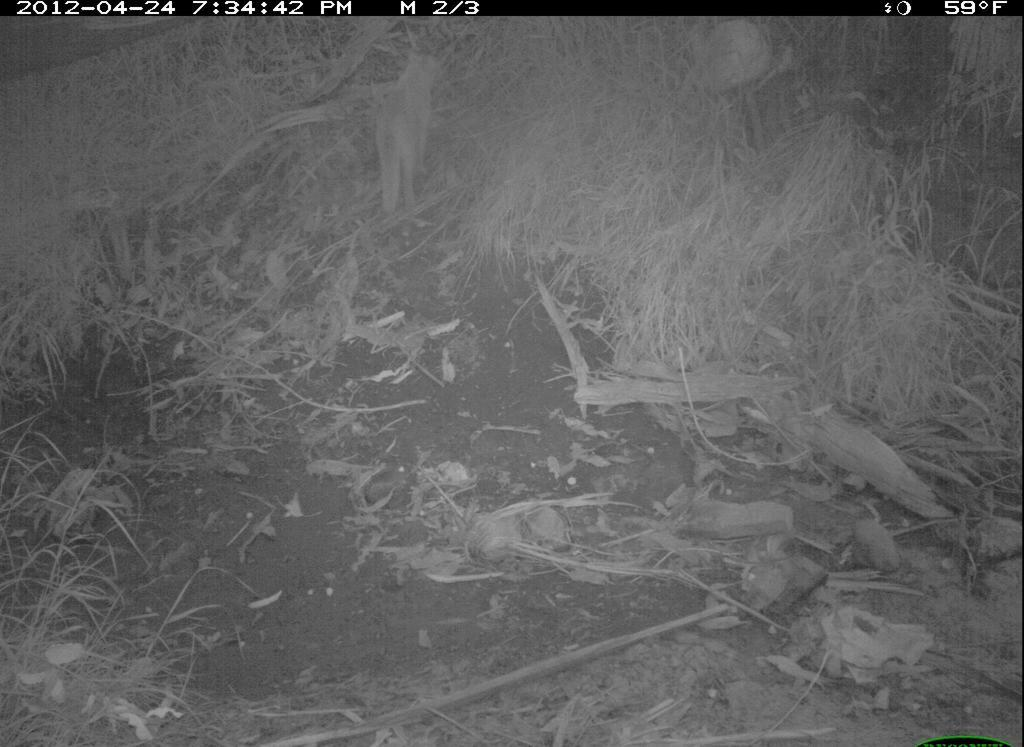cat: (372, 48, 447, 221)
